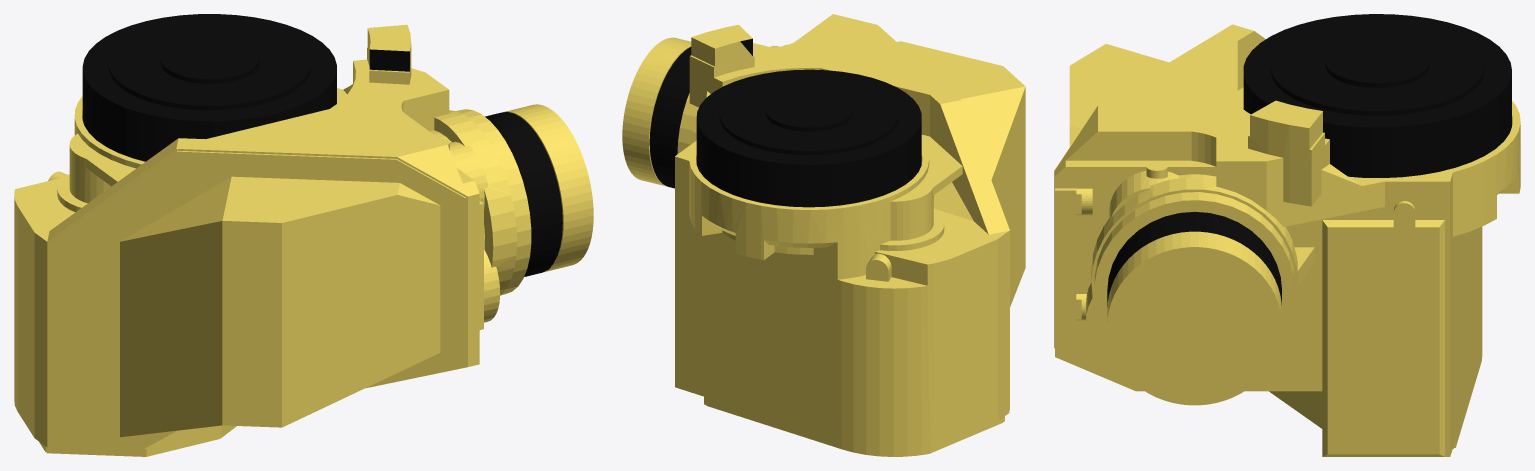
3 views of the same model, side by side, from view 1: azimuth 30°, elevation 25°; view 2: azimuth 150°, elevation 25°; view 3: azimuth 270°, elevation 25° (orthographic). The views are drawn at different scales.
Visible parts, largest first — view 1: /Link3/Link3_003-mesh/0, /Link3/Link3_003-mesh/1; view 2: /Link3/Link3_003-mesh/0, /Link3/Link3_003-mesh/1; view 3: /Link3/Link3_003-mesh/0, /Link3/Link3_003-mesh/1.
Boxes of the visible parts, <box> form: /Link3/Link3_003-mesh/0: <box>14,24,593,456</box>; /Link3/Link3_003-mesh/1: <box>82,14,562,276</box>; /Link3/Link3_003-mesh/0: <box>622,14,1025,456</box>; /Link3/Link3_003-mesh/1: <box>649,38,921,207</box>; /Link3/Link3_003-mesh/0: <box>1054,24,1520,456</box>; /Link3/Link3_003-mesh/1: <box>1107,14,1511,306</box>.
Bounding box in the file's own units: 0.5107 × 0.374 × 0.4334.
